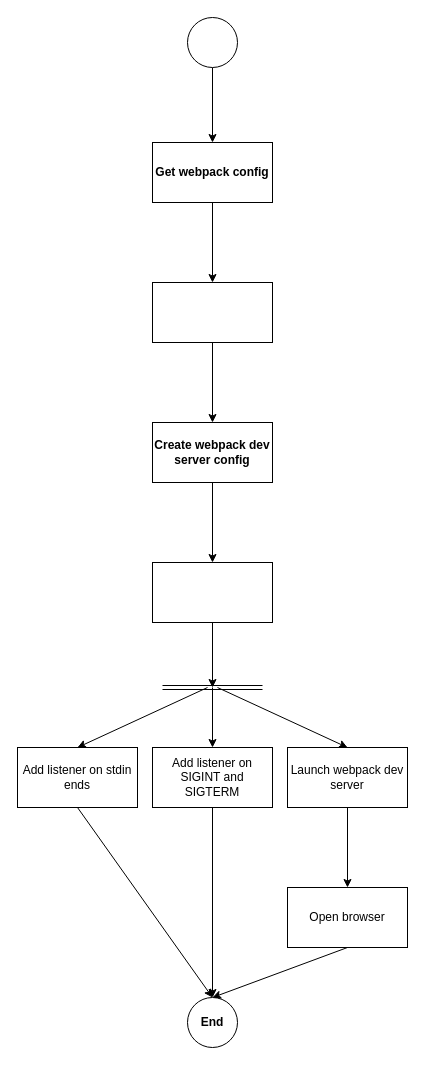
The diagram is 425 pixels wide and 1065 high, and some of its shapes have lost their labels. The centre of each missing label's shape, as x and y in pixels:
"Create webpack compiler" goes at pixel 212 312.
"Instantiate webpack dev server" goes at pixel 212 592.
"Start" goes at pixel 212 42.
